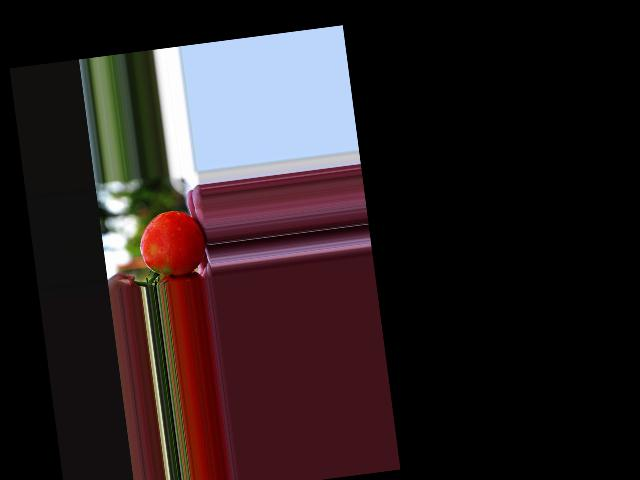tomato: (136, 207, 208, 279)
